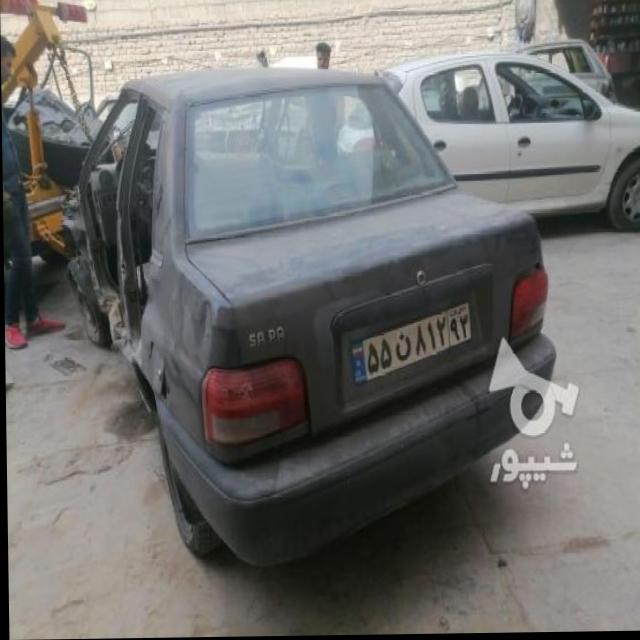licence: (349, 298, 471, 398)
